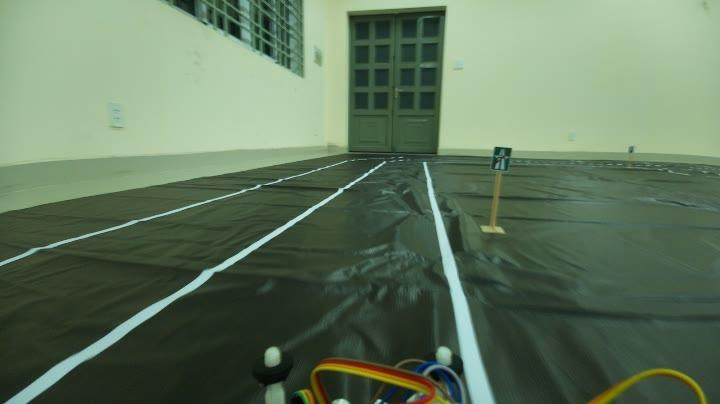highway_exit: (487, 140, 516, 178)
